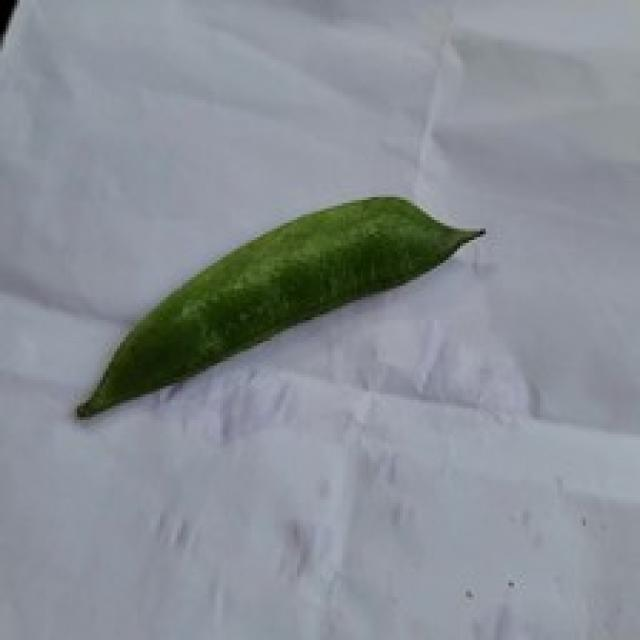Bean: (74, 191, 486, 420)
